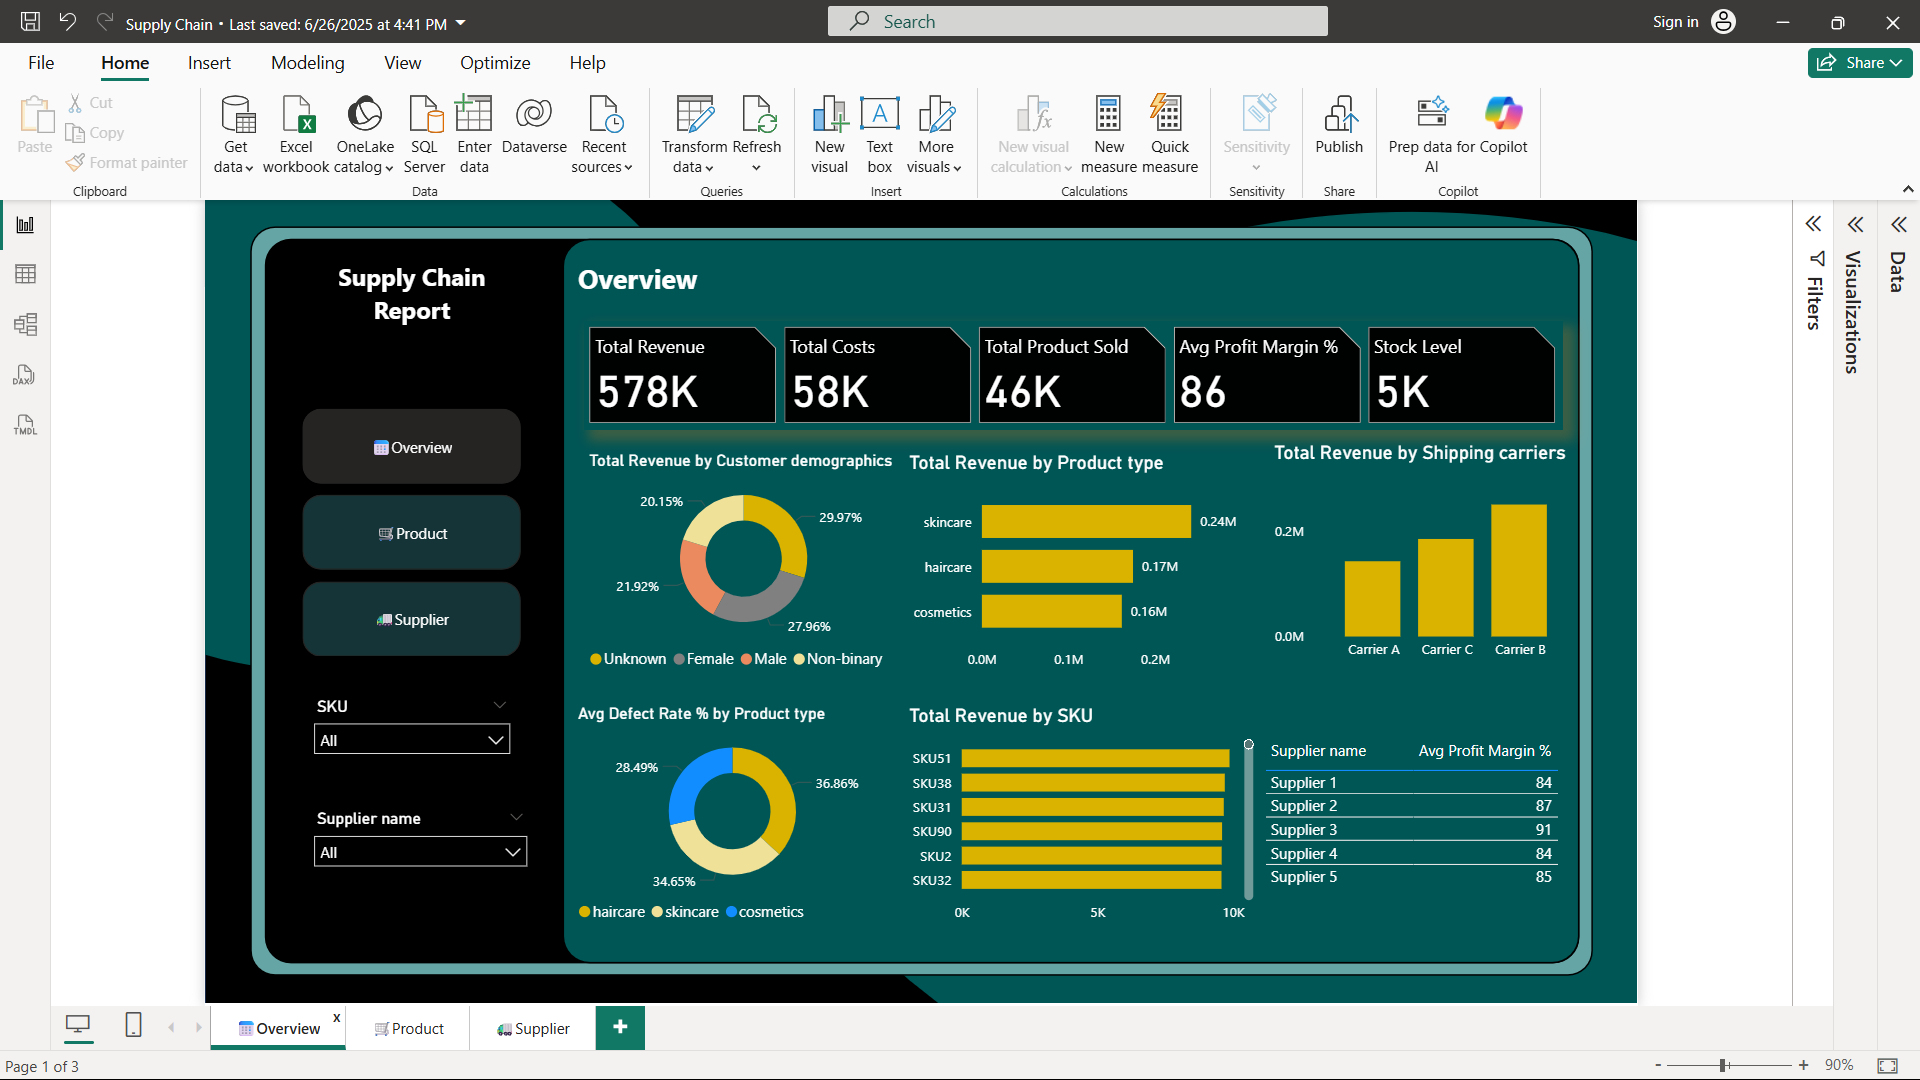

The dashboard page shown, as its layout file describes it:
{"tool":"powerbi","page":{"name":"📅Overview","canvas":[1280,720],"ordinal":0},"visuals":[{"type":"cardVisual","fields":{"Data":["_Measures.Total Revenue","_Measures.Total Costs","_Measures.Total Product Sold","_Measures.Avg Profit Margin %","_Measures.Stock Level"]},"box":[338.4,108.1,875.6,96.5],"z":0},{"type":"donutChart","fields":{"Category":["supply_chain_data.Customer demographics"],"Y":["_Measures.Total Revenue"]},"box":[338.4,224.4,286,204.7],"z":1000},{"type":"donutChart","fields":{"Y":["_Measures.Avg Defect Rate %"],"Category":["supply_chain_data.Product type"]},"box":[327.9,450,286,204.7],"z":2000},{"type":"clusteredBarChart","fields":{"Y":["_Measures.Total Revenue"],"Category":["supply_chain_data.Product type"]},"box":[624.4,224.4,317.4,204.7],"z":3000},{"type":"clusteredBarChart","fields":{"Y":["_Measures.Total Revenue"],"Category":["supply_chain_data.SKU"]},"box":[624.4,450,317.4,204.7],"z":4000},{"type":"columnChart","fields":{"Y":["_Measures.Total Revenue"],"Category":["supply_chain_data.Shipping carriers"]},"box":[950,215.1,282.6,204.7],"z":5000},{"type":"tableEx","fields":{"Values":["supply_chain_data.Supplier name","_Measures.Avg Profit Margin %"]},"box":[941.9,475.6,281.4,152.3],"z":6000},{"type":"textbox","box":[327.9,48.8,219.8,59.3],"z":7000},{"type":"pageNavigator","box":[87.2,186,195.3,222.1],"z":8000},{"type":"slicer","fields":{"Values":["supply_chain_data.Supplier name"]},"box":[87.2,539.5,210.5,88.4],"z":9000},{"type":"slicer","fields":{"Values":["supply_chain_data.SKU"]},"box":[87.2,438.4,195.3,75.6],"z":10000},{"type":"textbox","box":[87.2,48.8,195.3,101.2],"z":11000}]}

Visuals, with their boxes on the page's 1280x720 design canvas (x1, y1, x2, y2). These are canvas units, not pixel positions in the 1920x1080 screenshot, which may show the page scaled, cropped or inside an application window:
cardVisual - _Measures.Total Revenue x _Measures.Total Costs: x1=338, y1=108, x2=1214, y2=205
donutChart - supply_chain_data.Customer demographics x _Measures.Total Revenue: x1=338, y1=224, x2=624, y2=429
donutChart - _Measures.Avg Defect Rate % x supply_chain_data.Product type: x1=328, y1=450, x2=614, y2=655
clusteredBarChart - _Measures.Total Revenue x supply_chain_data.Product type: x1=624, y1=224, x2=942, y2=429
clusteredBarChart - _Measures.Total Revenue x supply_chain_data.SKU: x1=624, y1=450, x2=942, y2=655
columnChart - _Measures.Total Revenue x supply_chain_data.Shipping carriers: x1=950, y1=215, x2=1233, y2=420
tableEx - supply_chain_data.Supplier name x _Measures.Avg Profit Margin %: x1=942, y1=476, x2=1223, y2=628
textbox: x1=328, y1=49, x2=548, y2=108
pageNavigator: x1=87, y1=186, x2=282, y2=408
slicer - supply_chain_data.Supplier name: x1=87, y1=540, x2=298, y2=628
slicer - supply_chain_data.SKU: x1=87, y1=438, x2=282, y2=514
textbox: x1=87, y1=49, x2=282, y2=150
